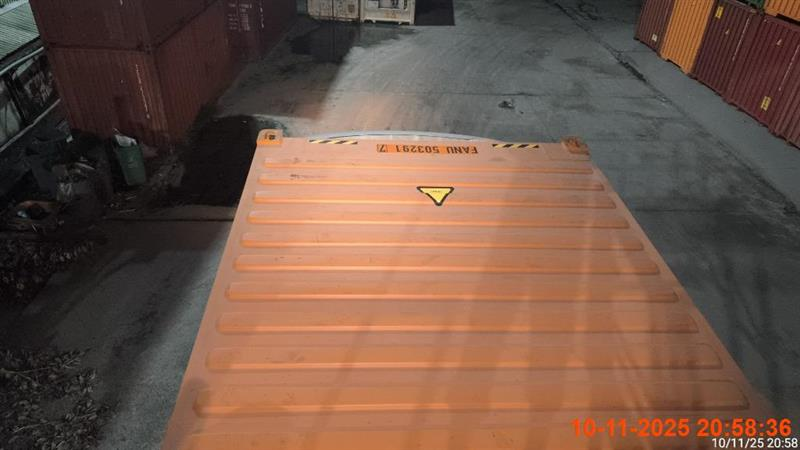broken: (161, 128, 752, 442)
